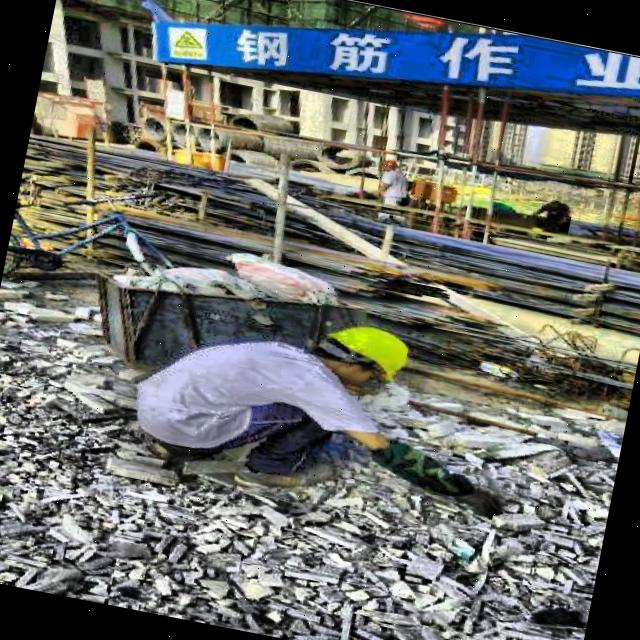helmet: (302, 309, 424, 402)
